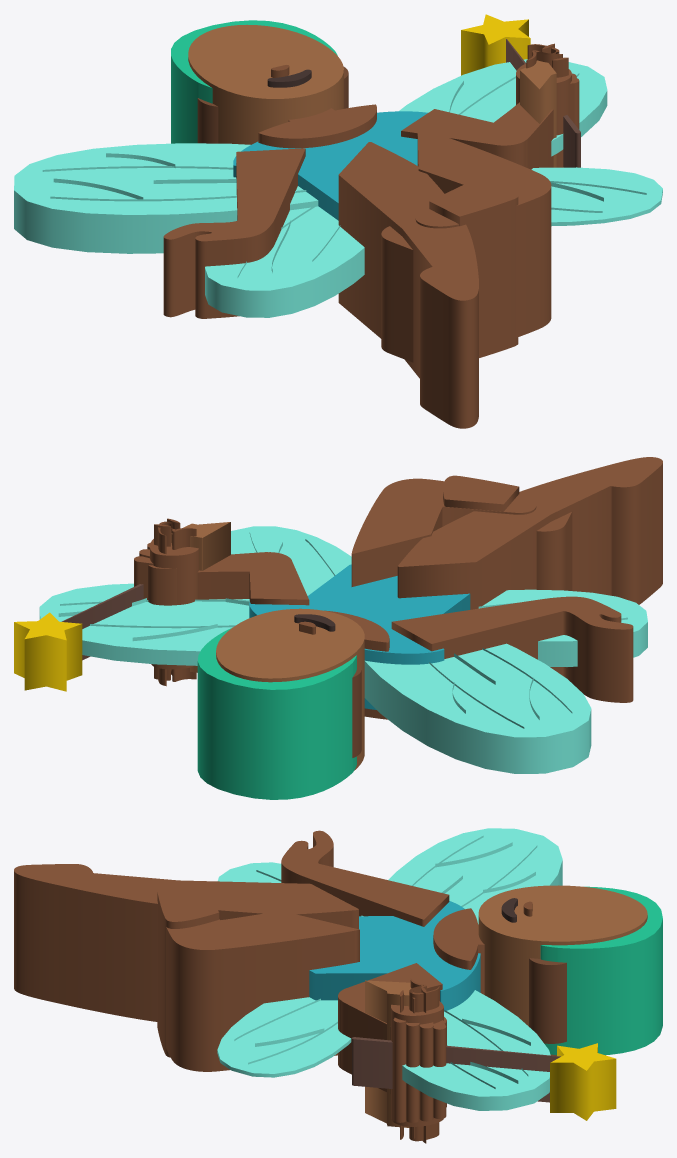
File: emoji_u1f9da_1f3fe_200d_2642.glb
The picture shows the model from 3 angles, top to bottom: view 1: azimuth 30°, elevation 25°; view 2: azimuth 150°, elevation 25°; view 3: azimuth 270°, elevation 25°; orthographic projection. The views are drawn at different scales.
Visible parts, largest first — view 1: emoji_u1f9da_1f3fe_200d_2642; view 2: emoji_u1f9da_1f3fe_200d_2642; view 3: emoji_u1f9da_1f3fe_200d_2642.
Part boxes in pixels (x1=…): emoji_u1f9da_1f3fe_200d_2642: x1=14, y1=14, x2=662, y2=428; emoji_u1f9da_1f3fe_200d_2642: x1=14, y1=457, x2=662, y2=799; emoji_u1f9da_1f3fe_200d_2642: x1=14, y1=828, x2=662, y2=1143.
Bounding box in the file's own units: 0.0309 × 0.0084 × 0.0328.
